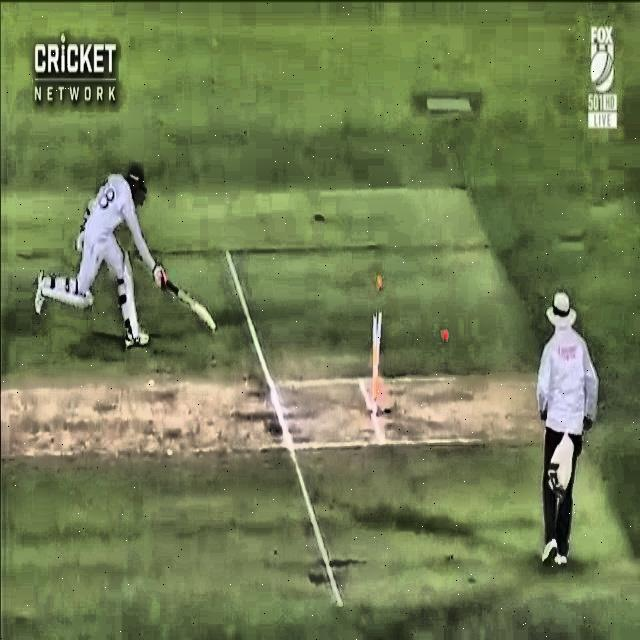Ball: (433, 315, 462, 357)
Bat: (146, 264, 221, 334)
Dis_Wicket: (358, 255, 397, 428)
Pitch_Line: (224, 249, 341, 608)
